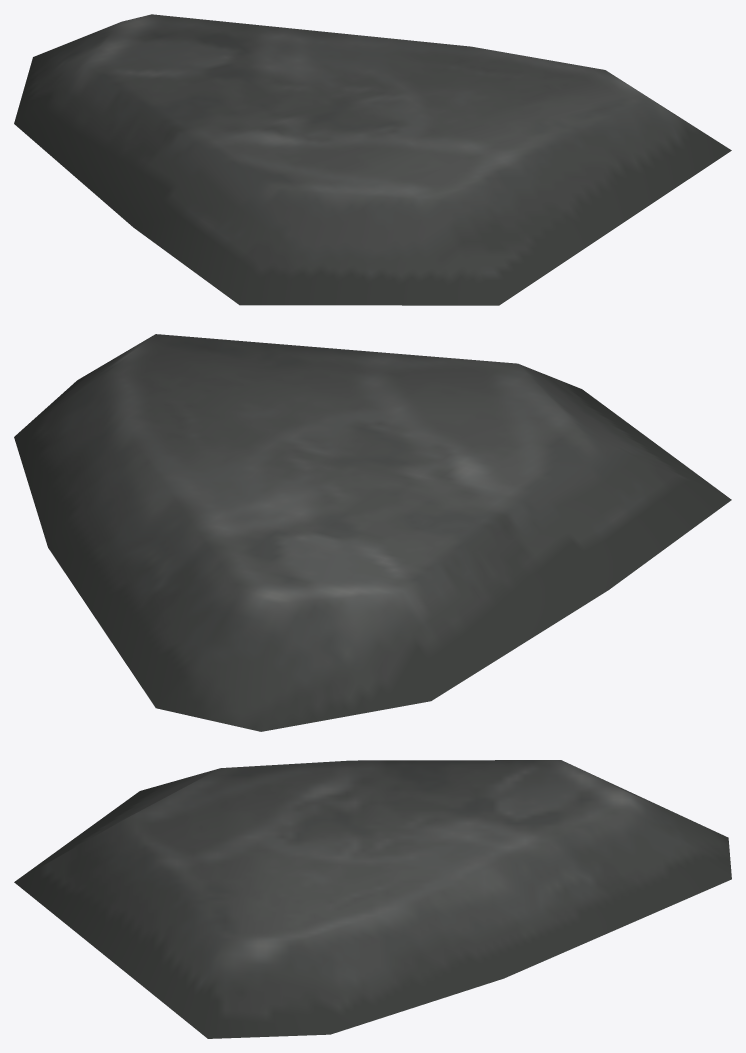
The model's file is yw_zhaoze_stones_007.FBX.
The picture shows the model from 3 angles, top to bottom: view 1: azimuth 30°, elevation 25°; view 2: azimuth 150°, elevation 25°; view 3: azimuth 270°, elevation 25°; orthographic projection. The views are drawn at different scales.
Visible parts, largest first — view 1: yw_zhaoze_stones_007; view 2: yw_zhaoze_stones_007; view 3: yw_zhaoze_stones_007.
Part boxes in pixels (<box>): yw_zhaoze_stones_007: <box>14,14,731,305</box>; yw_zhaoze_stones_007: <box>14,334,731,731</box>; yw_zhaoze_stones_007: <box>14,760,731,1038</box>.
Size of the model in its own units: 257 by 314 by 29.74.
